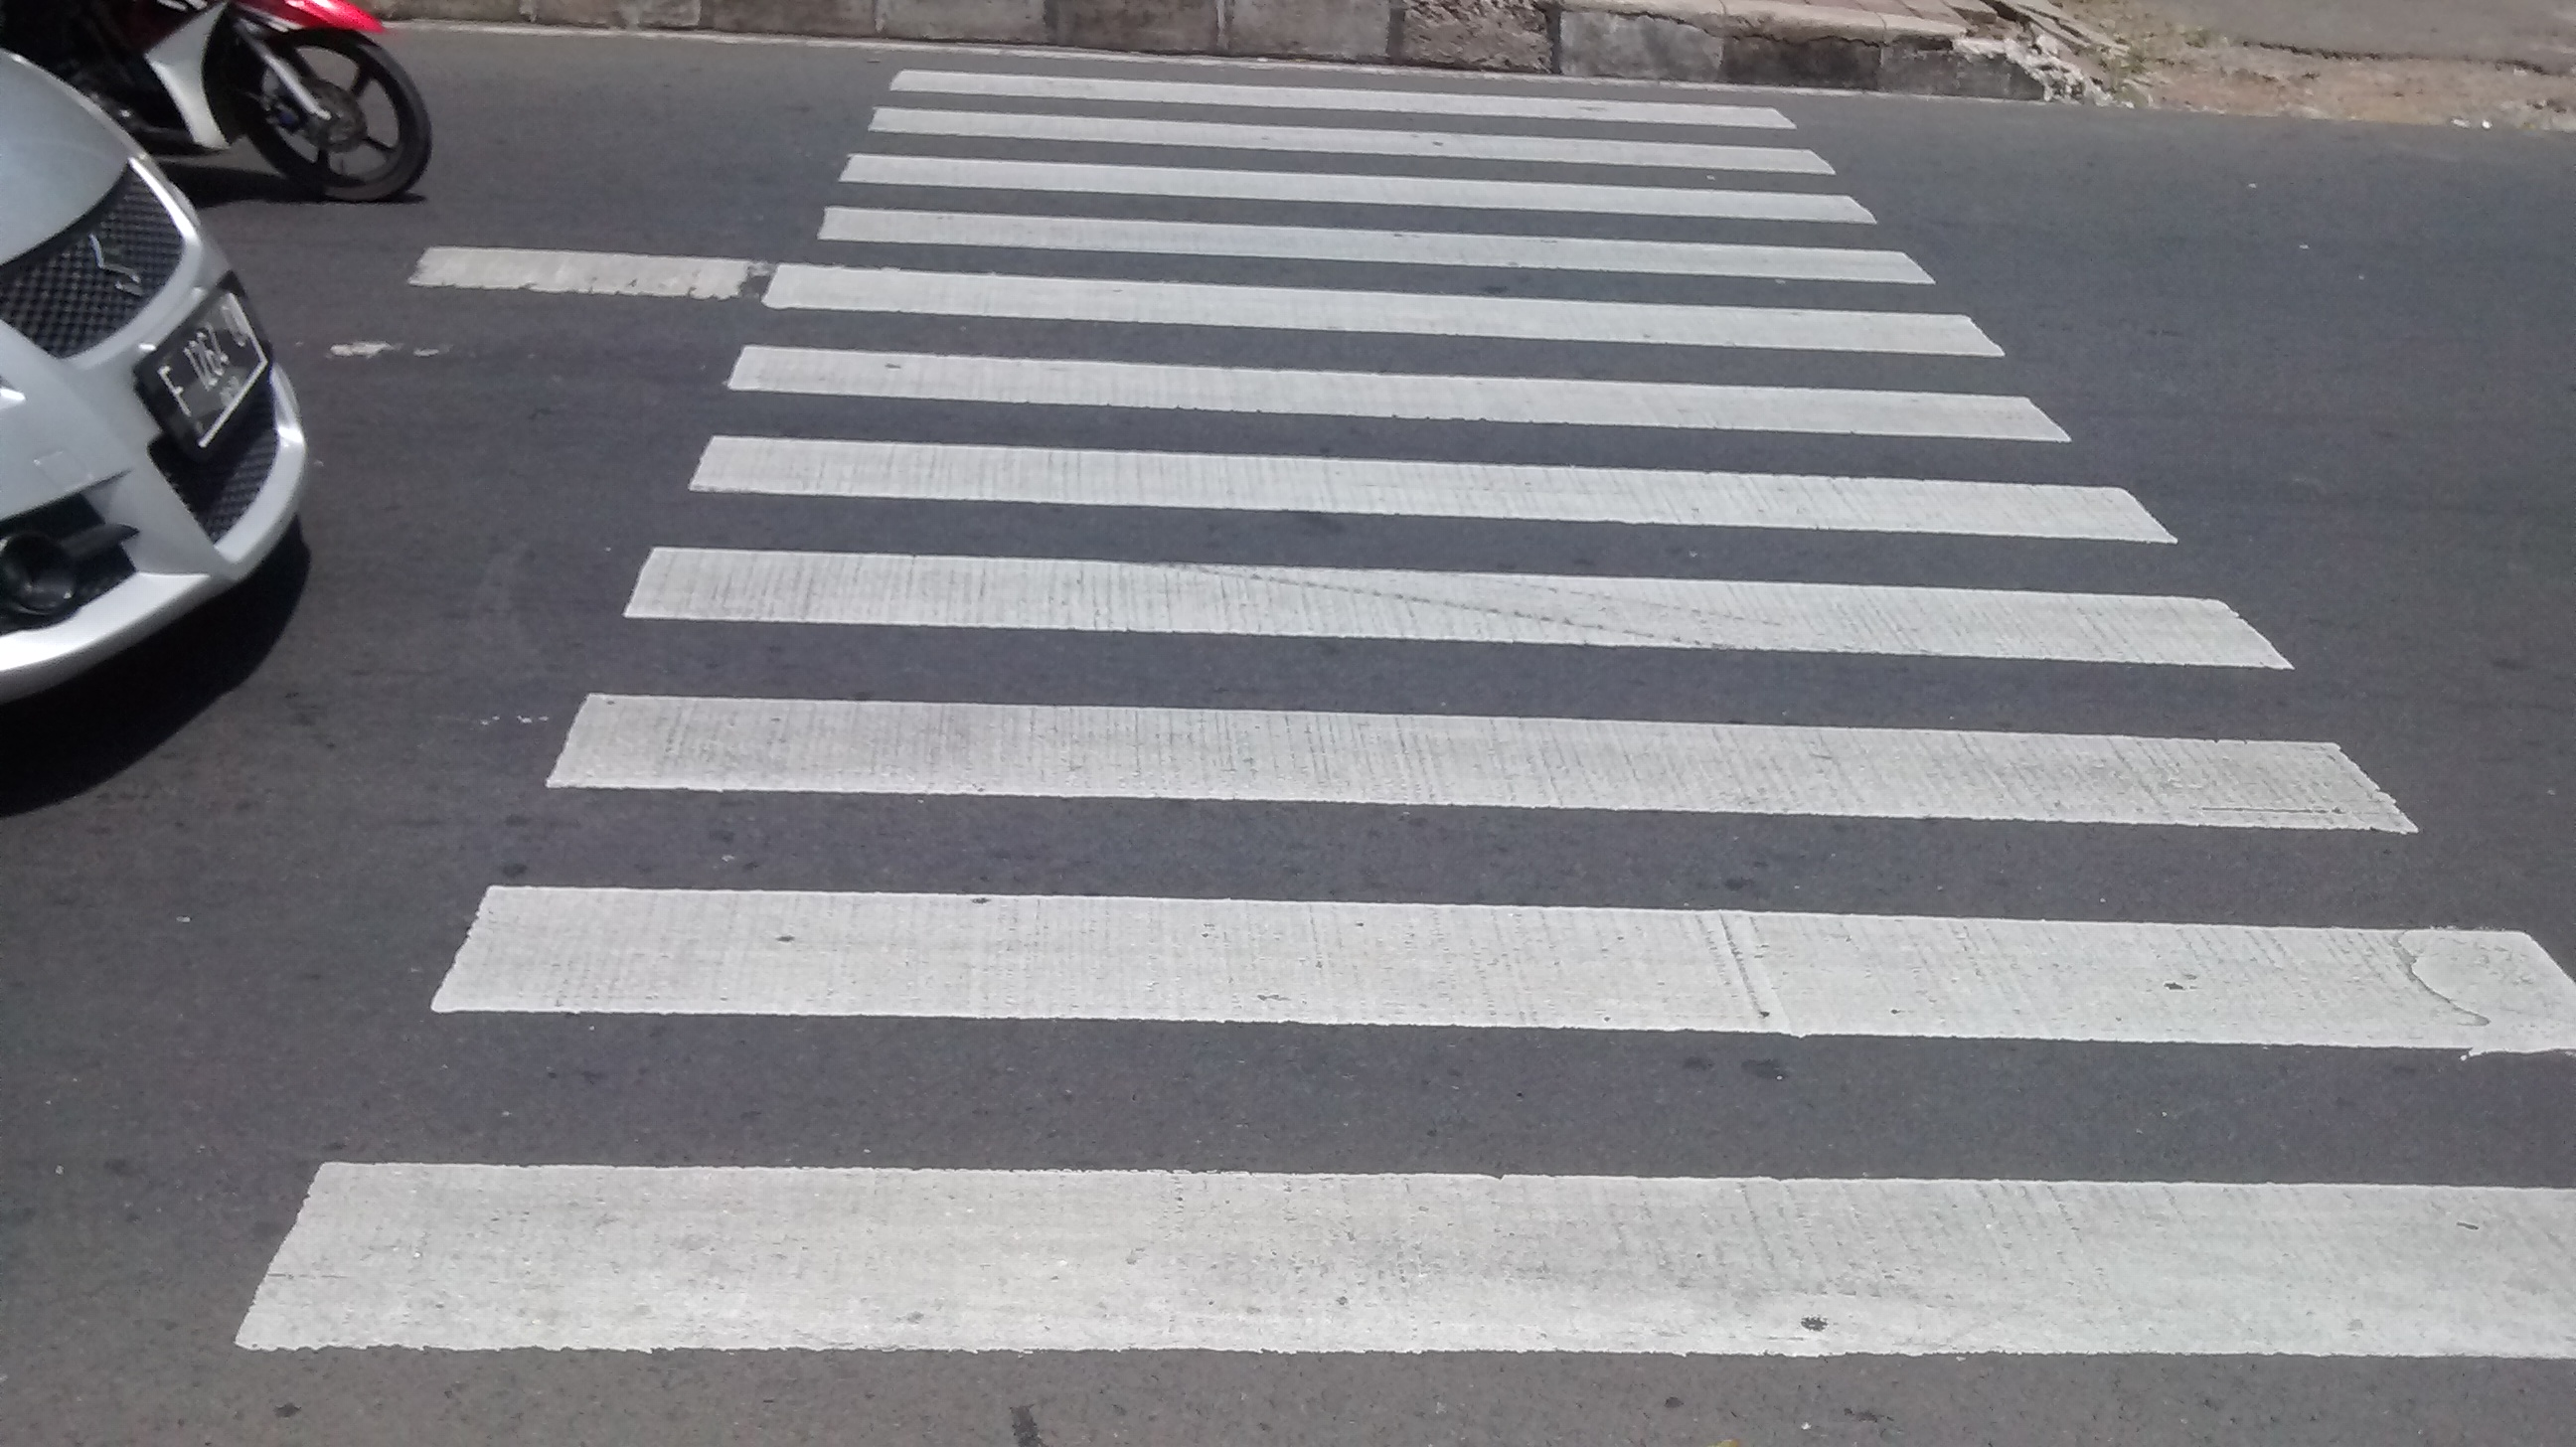zebracross: (570, 64, 2247, 1397)
